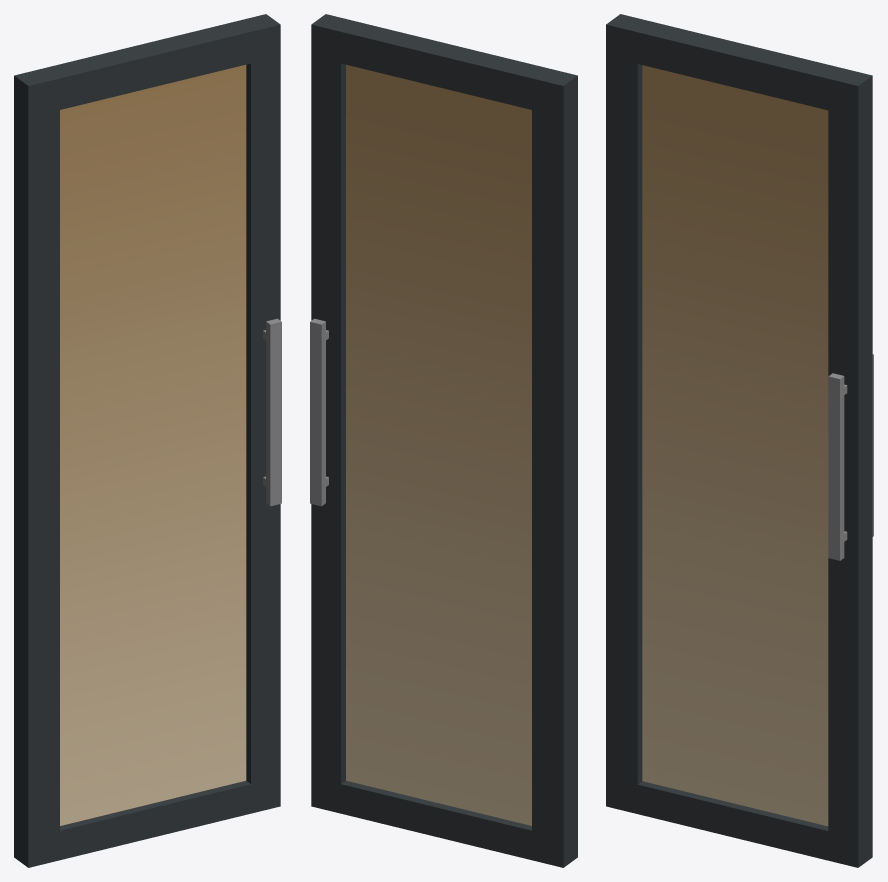
File: SM_Buildings_CityMall_01_Door_R_01.fbx
The picture shows the model from 3 angles, left to right: view 1: azimuth 30°, elevation 25°; view 2: azimuth 150°, elevation 25°; view 3: azimuth 330°, elevation 25°; orthographic projection.
Parts seen in each view (by area): view 1: SM_Buildings_CityMall_01_Door_R_01; view 2: SM_Buildings_CityMall_01_Door_R_01; view 3: SM_Buildings_CityMall_01_Door_R_01.
Part boxes in pixels (x1=…): SM_Buildings_CityMall_01_Door_R_01: x1=14, y1=14, x2=281, y2=867; SM_Buildings_CityMall_01_Door_R_01: x1=310, y1=14, x2=577, y2=867; SM_Buildings_CityMall_01_Door_R_01: x1=606, y1=14, x2=873, y2=867.
Size of the model in its own units: 1 by 2.97 by 0.2332.
